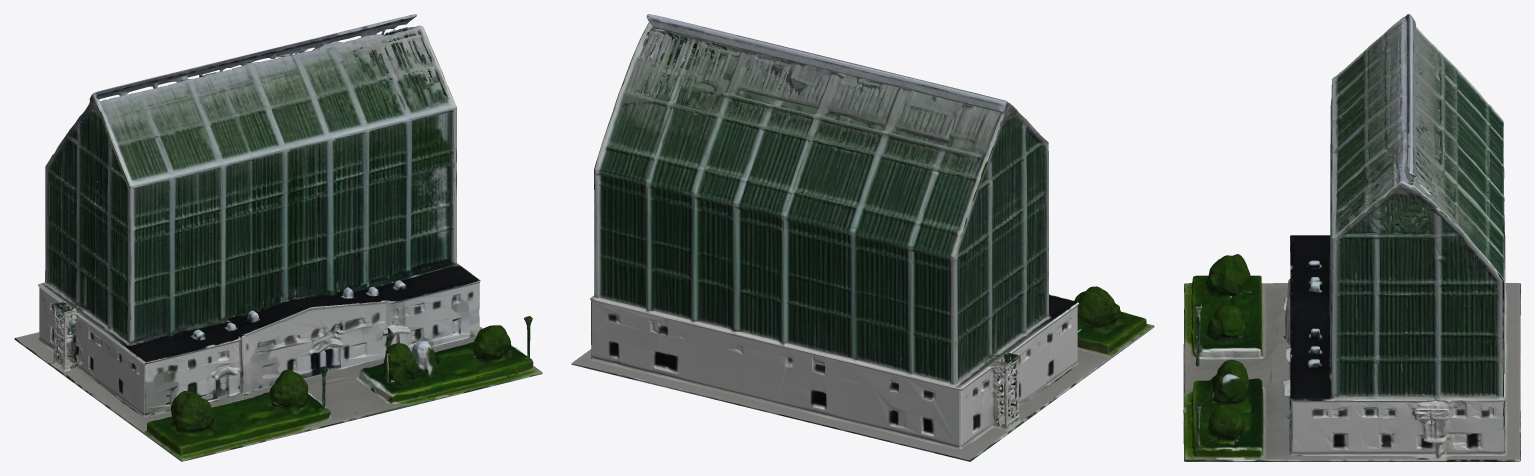
File: comp_greenhouse.glb
3 views of the same model, side by side, from view 1: azimuth 30°, elevation 25°; view 2: azimuth 150°, elevation 25°; view 3: azimuth 270°, elevation 25° (orthographic). The views are drawn at different scales.
Visible parts, largest first — view 1: geometry_0; view 2: geometry_0; view 3: geometry_0.
Part boxes in pixels (x1,y1,x2,y2): geometry_0: (14, 14, 542, 461); geometry_0: (571, 14, 1154, 461); geometry_0: (1183, 14, 1520, 461).
Bounding box in the file's own units: 1.99 × 1.48 × 1.6.
1 material, 1 textured.
